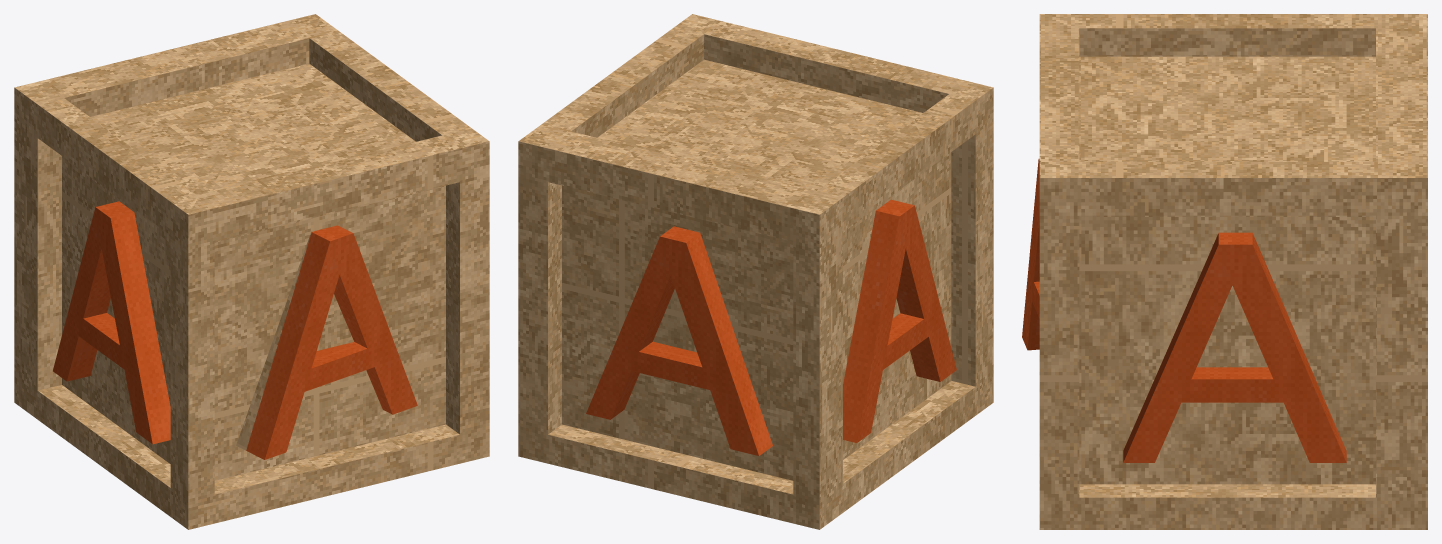
Rendered from Cubi_Arianna_A.fbx.
3 views of the same model, side by side, from view 1: azimuth 30°, elevation 25°; view 2: azimuth 150°, elevation 25°; view 3: azimuth 270°, elevation 25° (orthographic). The views are drawn at different scales.
Visible parts, largest first — view 1: cuboA.003; view 2: cuboA.003; view 3: cuboA.003.
Part boxes in pixels (<box>): cuboA.003: <box>14,14,489,529</box>; cuboA.003: <box>518,14,993,529</box>; cuboA.003: <box>1022,14,1427,529</box>.
Bounding box in the file's own units: 0.3633 × 0.3633 × 0.3798.
Materials: 2 (2 with a texture image).
